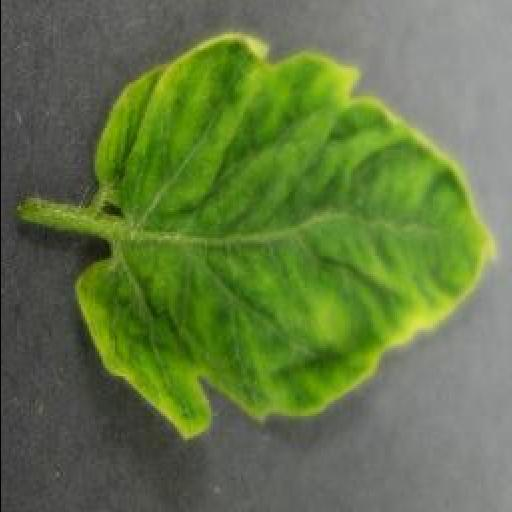disease_tomato: (70, 30, 496, 444)
